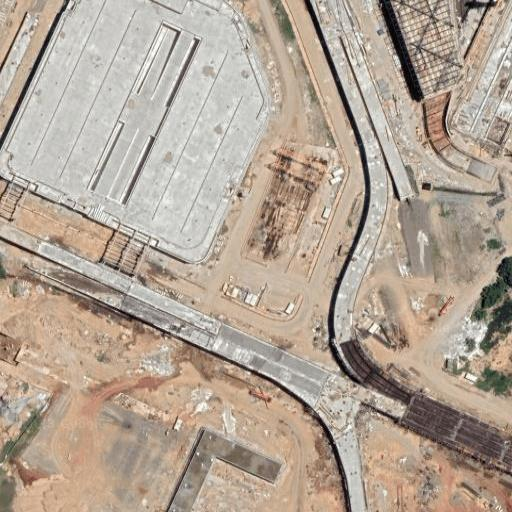building: (0, 0, 269, 264), (195, 312, 332, 405), (166, 429, 223, 512), (330, 428, 371, 512), (396, 197, 437, 279), (215, 438, 281, 483), (225, 283, 257, 307), (321, 206, 332, 219), (172, 417, 182, 431), (285, 301, 295, 315), (333, 169, 342, 177), (330, 177, 339, 184), (0, 407, 2, 412)
